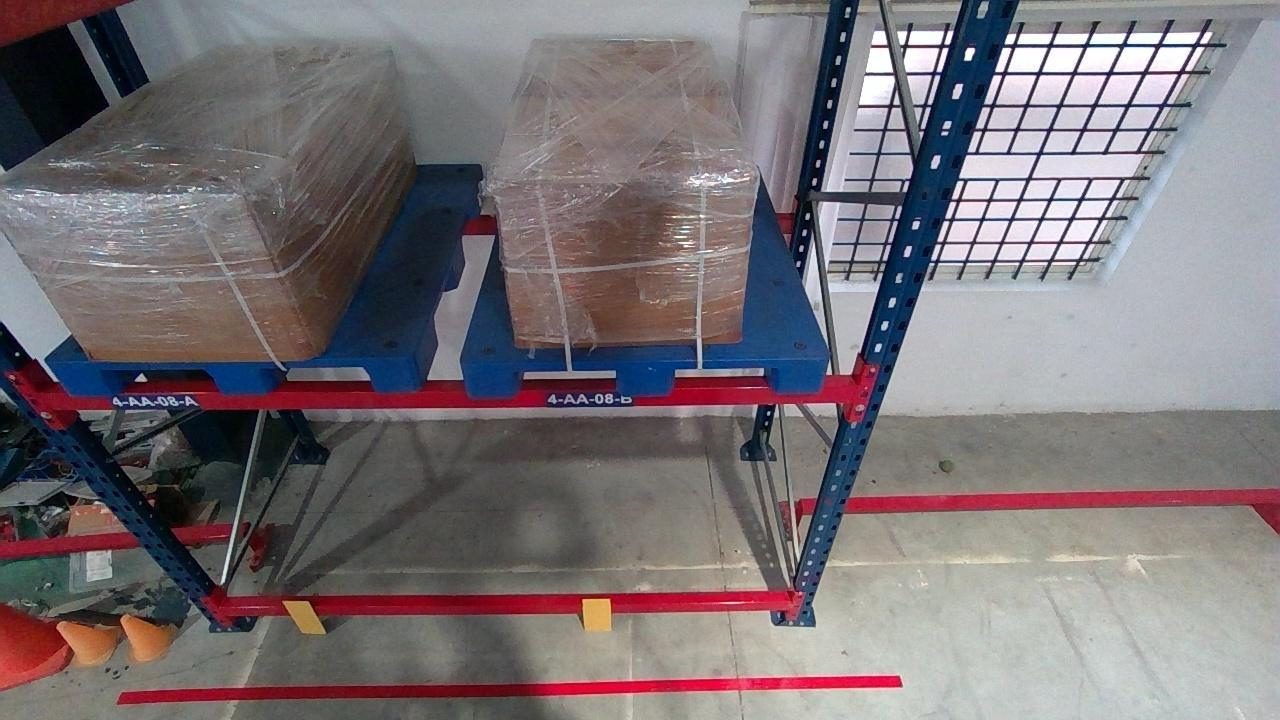h_rack: (43, 384, 863, 409), (218, 600, 788, 617)
orange_strip: (280, 599, 327, 633), (581, 597, 612, 630)
red_line: (111, 675, 902, 701)
small_pallet: (463, 358, 831, 395), (59, 357, 417, 393)
